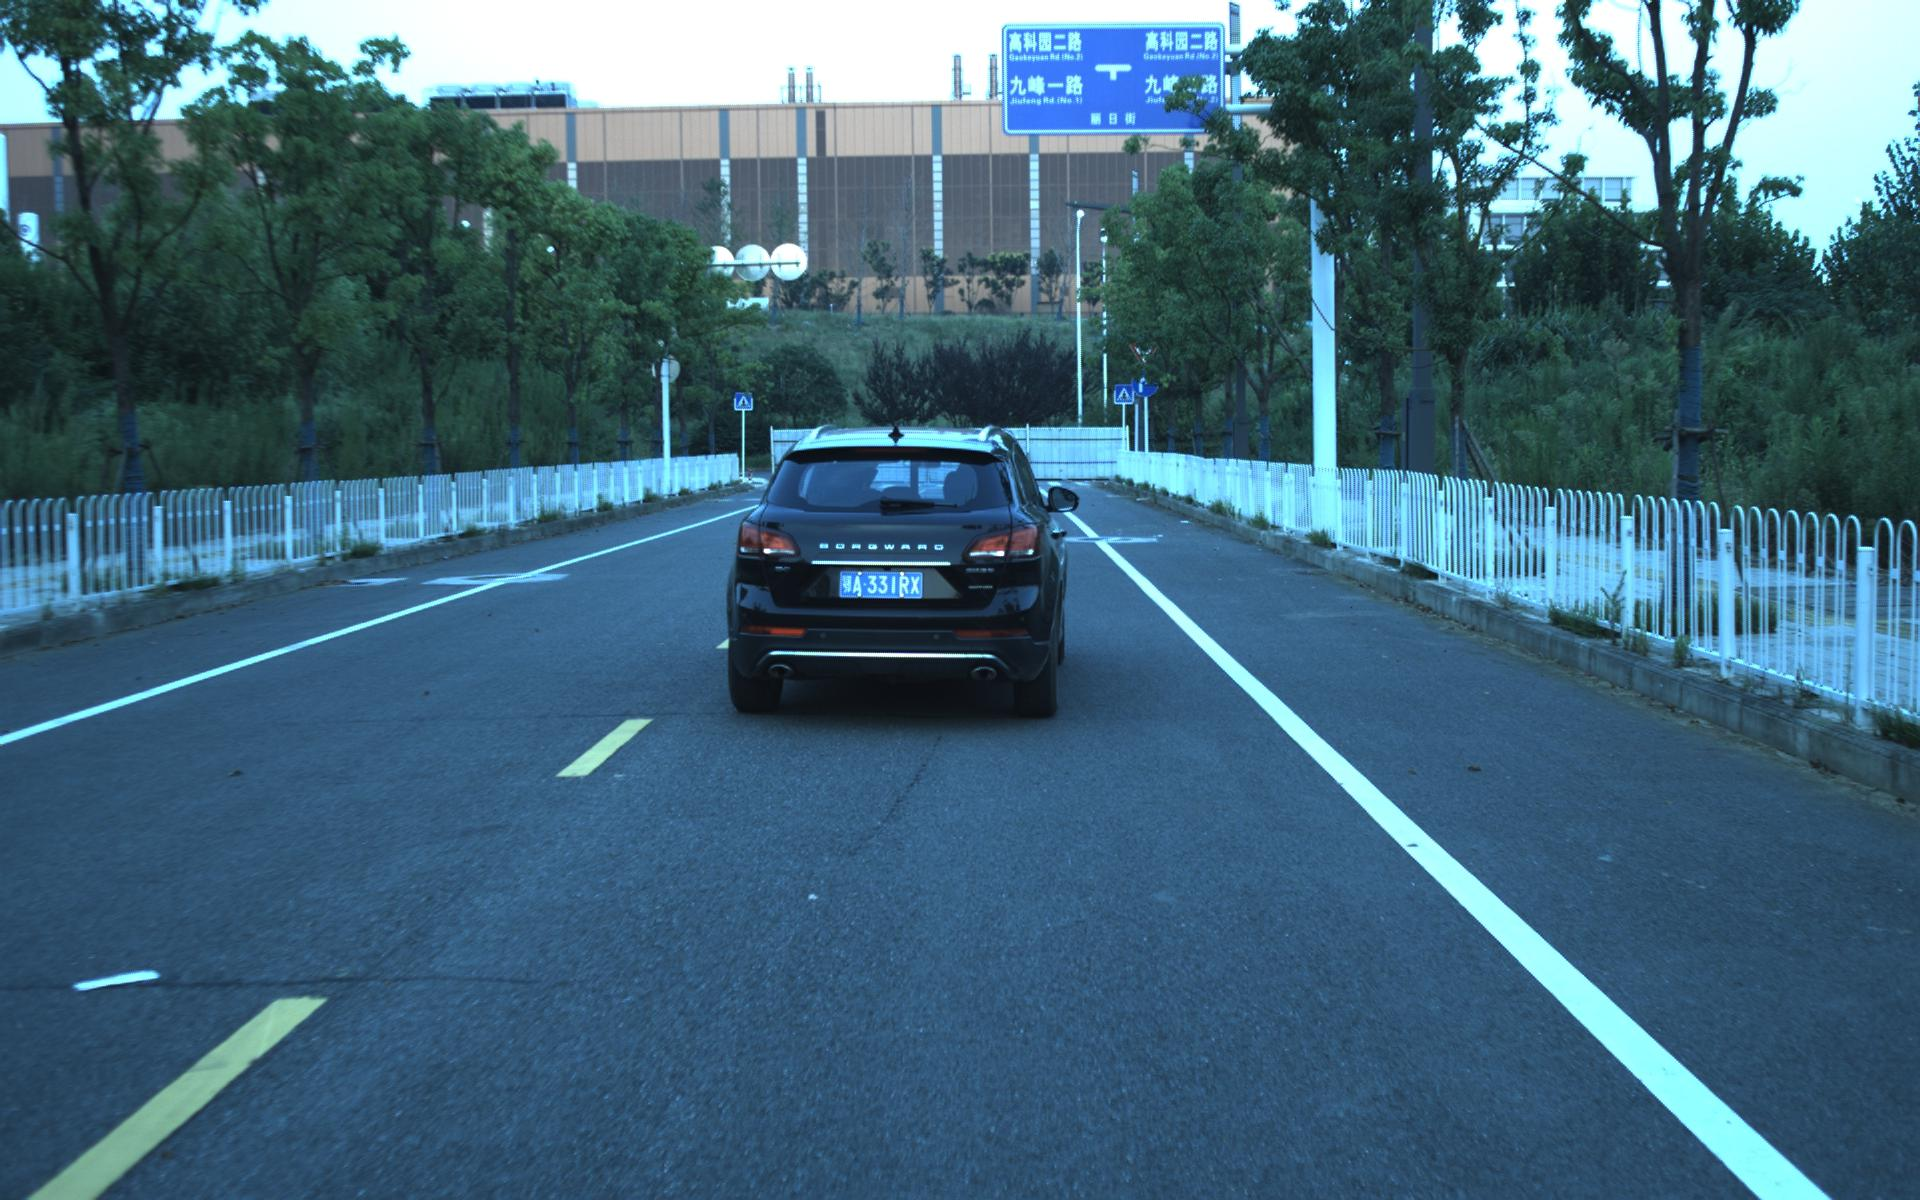Car: (717, 415, 1069, 724)
